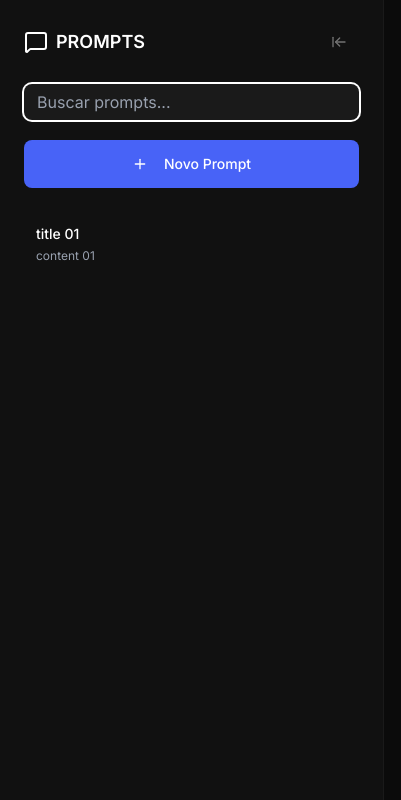
Test case: <SidebarContent/> › Actions › should collapse and display expand button
Click the button named "Fechar menu lateral": (339, 42) [319,24,359,60]
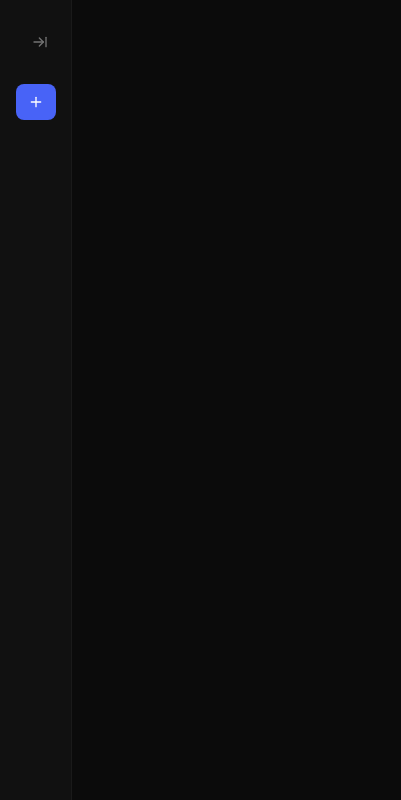
Check: the button named "Expandir menu lateral" is shown, box [20,24,60,60]
